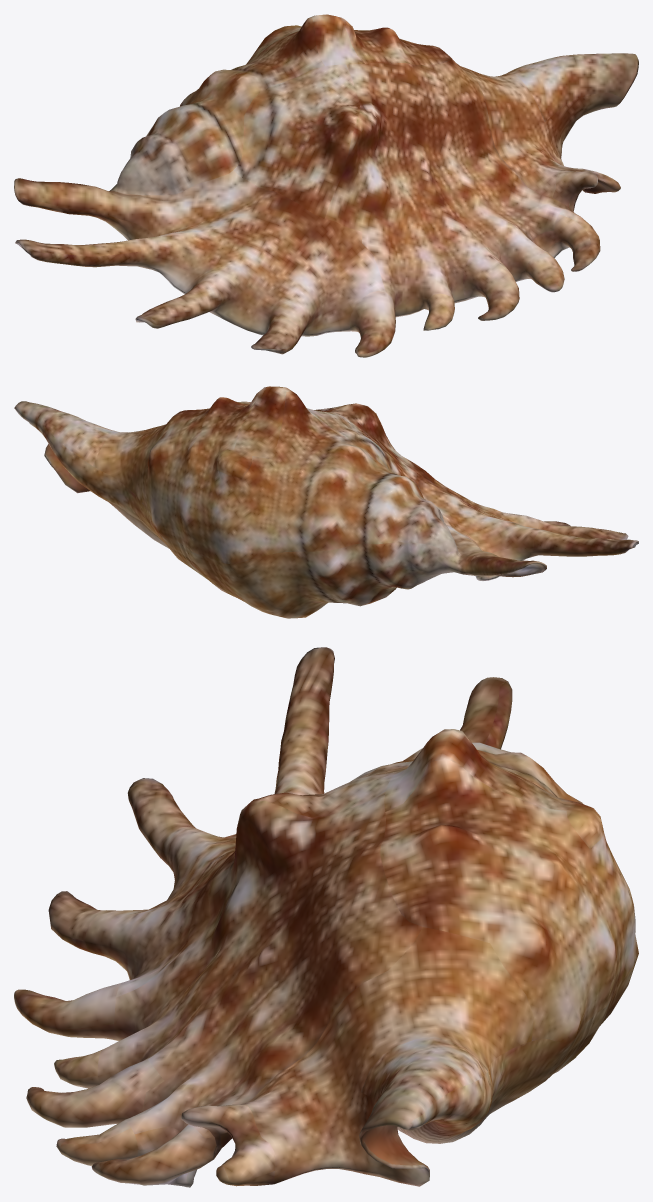
Rendered from p_lambis_shell.glb.
3 renders of one model, top to bottom at view 1: azimuth 30°, elevation 25°; view 2: azimuth 150°, elevation 25°; view 3: azimuth 270°, elevation 25°, orthographic. The views are drawn at different scales.
Visible parts, largest first — view 1: lambis_shell; view 2: lambis_shell; view 3: lambis_shell.
Boxes of the visible parts, x1,y1,x2,y2 form: lambis_shell: (14,14,638,357); lambis_shell: (14,386,638,618); lambis_shell: (14,647,638,1187).
Bounding box in the file's own units: 0.1395 × 0.0465 × 0.0745.
1 material, 1 textured.
